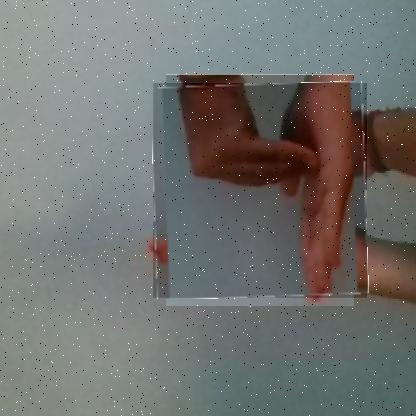Z: (152, 83, 367, 299)
